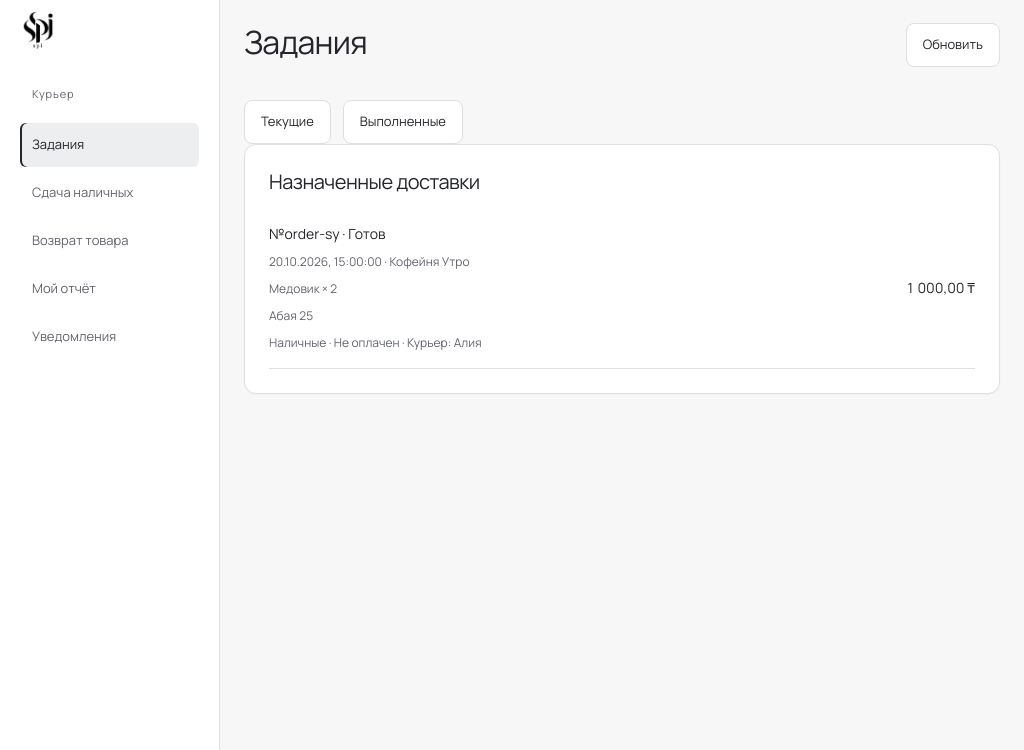
Test: lets an assigned courier accept the delivery and keeps payment status visible in the queue
Click the button "order-sy" at (312, 233), box [269,207,975,369]
(page scrolled)
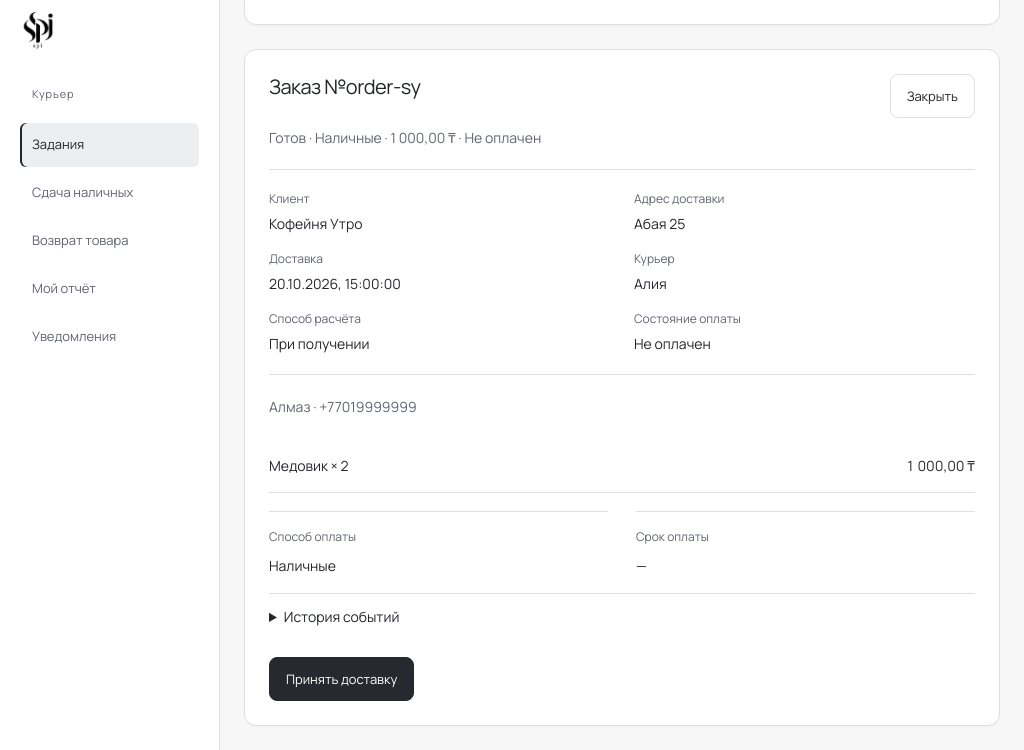
Click the button "Принять доставку" at (342, 679), box [269,657,414,701]
(page scrolled)
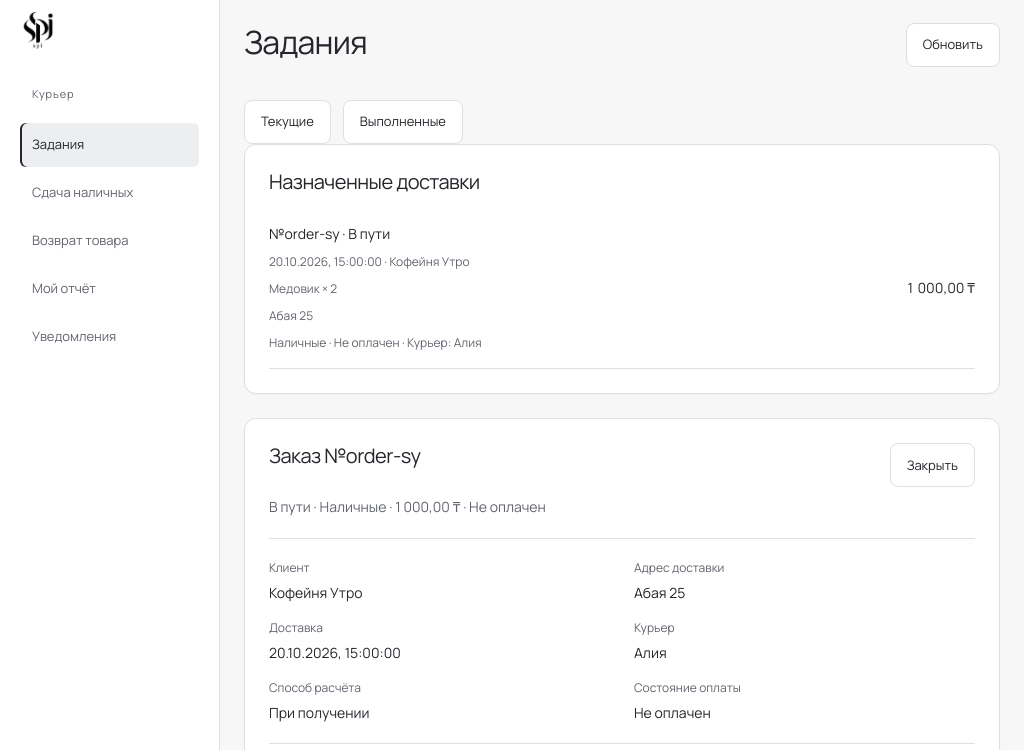
Expected: the button "Выполненные" is shown, [343,100,463,144]
Expected: the button "Принять доставку" is gone
